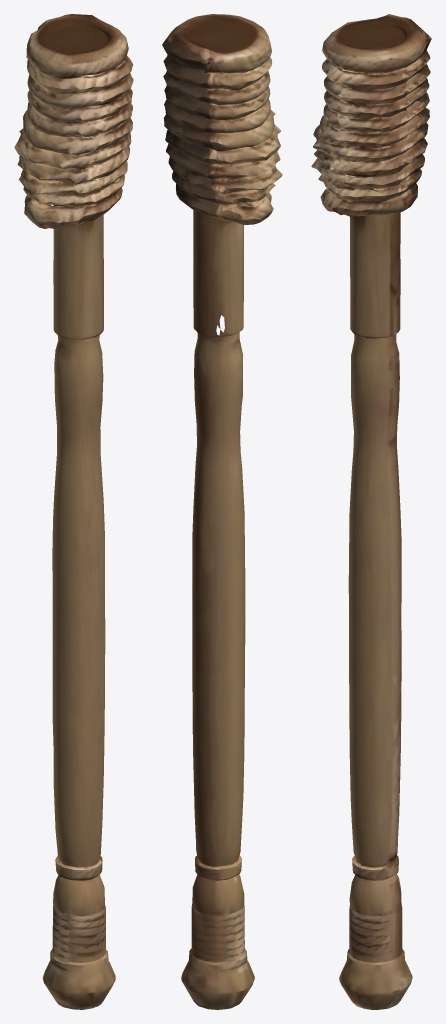
File: TorchUnlitRope.glb
3 renders of one model, left to right at view 1: azimuth 30°, elevation 25°; view 2: azimuth 150°, elevation 25°; view 3: azimuth 330°, elevation 25°, orthographic.
Parts seen in each view (by area): view 1: TorchUnlitRope; view 2: TorchUnlitRope; view 3: TorchUnlitRope.
Part boxes in pixels (left/top/right/bottom): TorchUnlitRope: left=14, top=14, right=133, bottom=1009; TorchUnlitRope: left=162, top=14, right=282, bottom=1009; TorchUnlitRope: left=311, top=14, right=431, bottom=1009.
Bounding box in the file's own units: 0.0899 × 0.8399 × 0.0935.
Materials: 1 (1 with a texture image).
